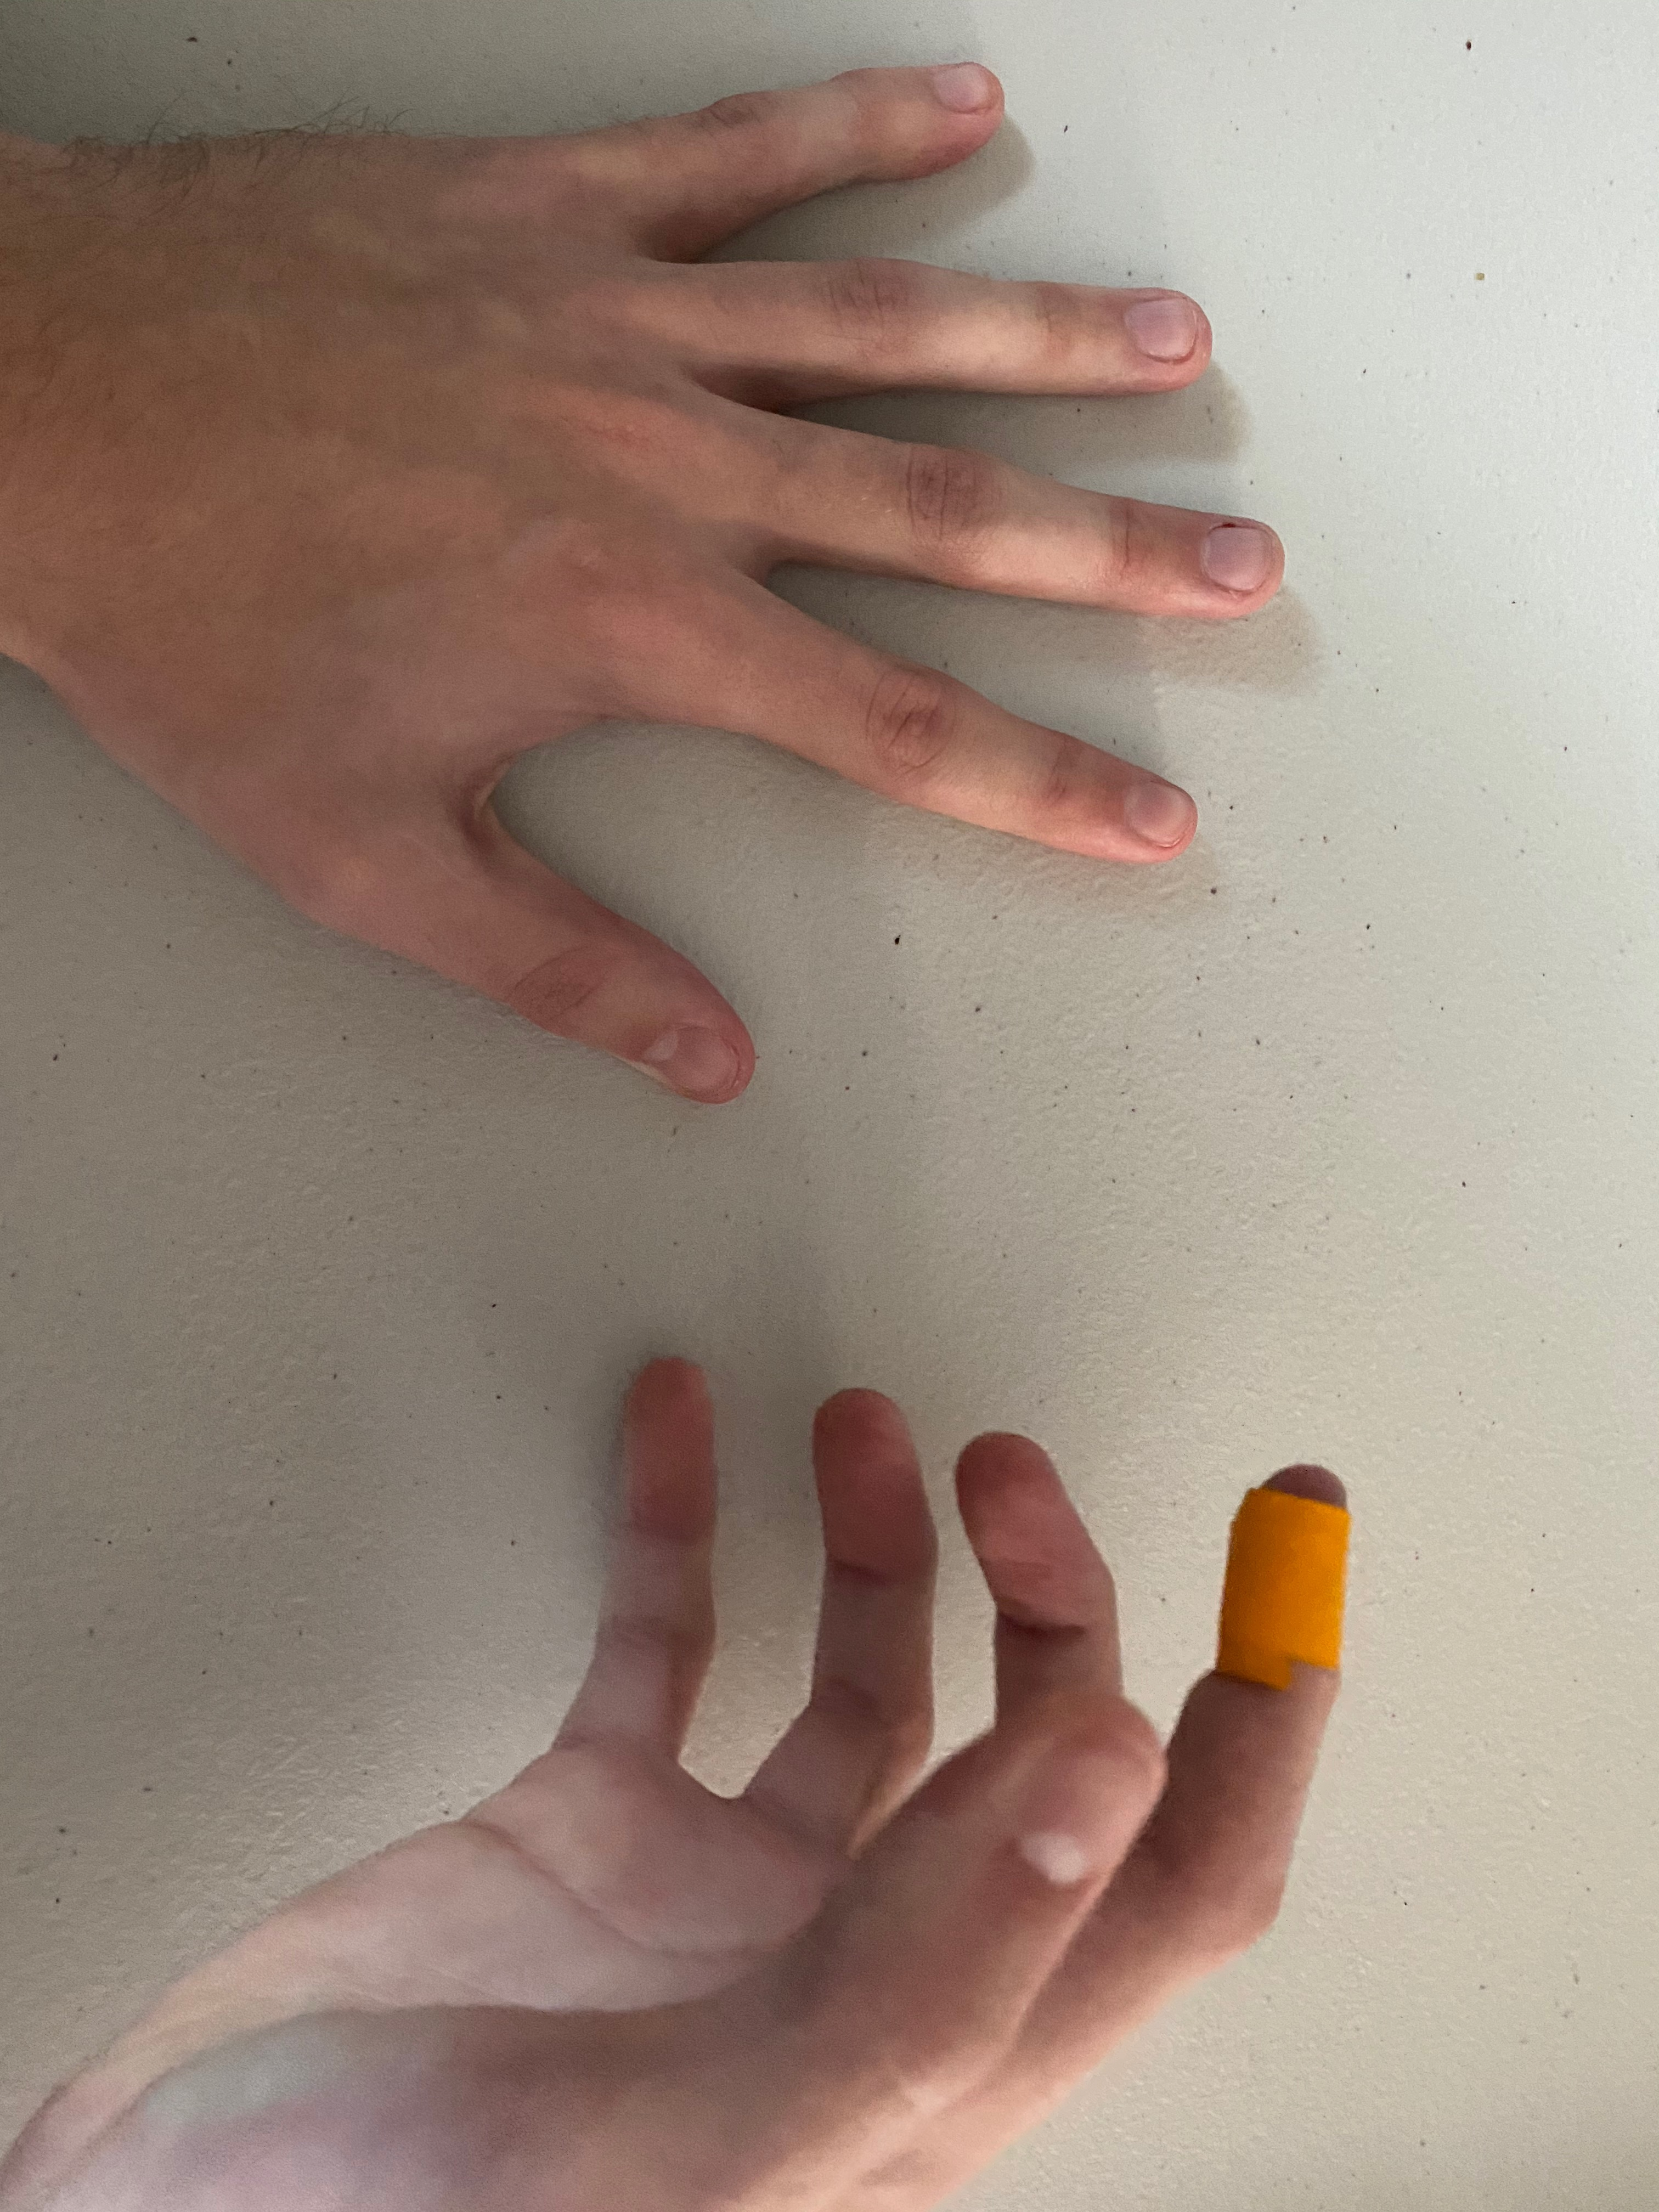fingertip: (1188, 1449, 1413, 1703)
